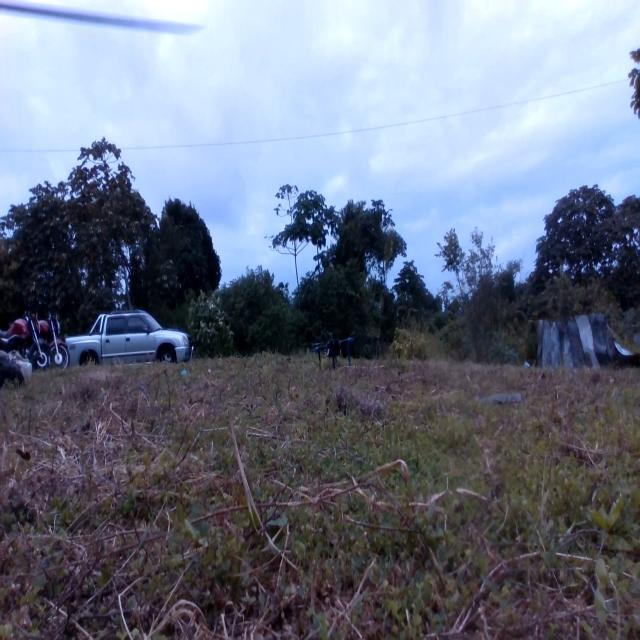-uav-: (308, 326, 357, 376)
